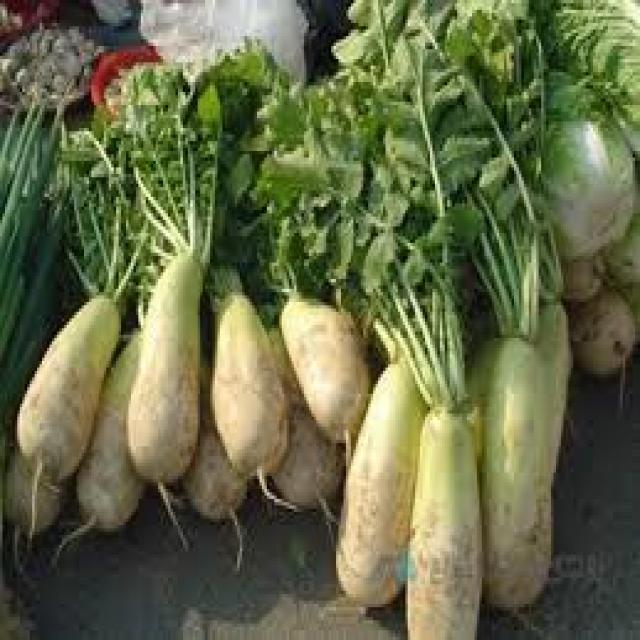raddish: (339, 364, 427, 607), (17, 295, 121, 482), (408, 410, 484, 640), (128, 253, 203, 484), (213, 296, 289, 477)
